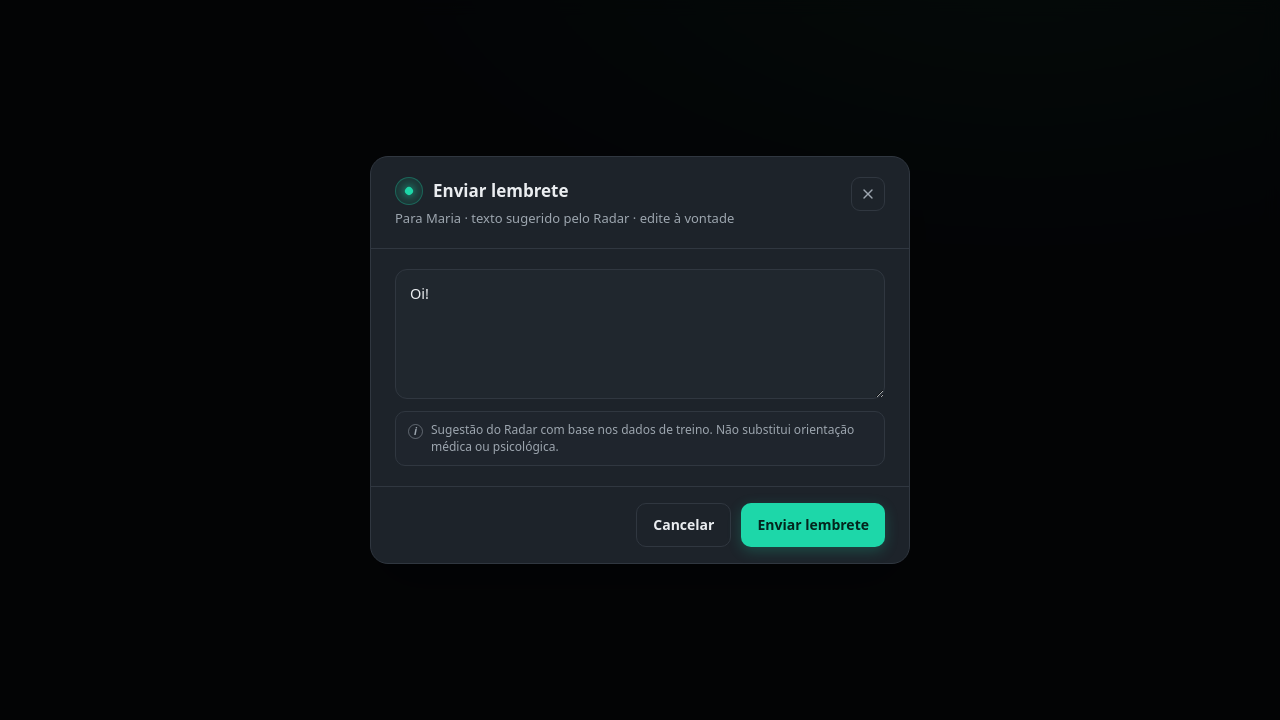
Test: ReminderModal › shows error when send fails
Click the button "Enviar lembrete".
click(813, 525)  # box [741,503,885,547]
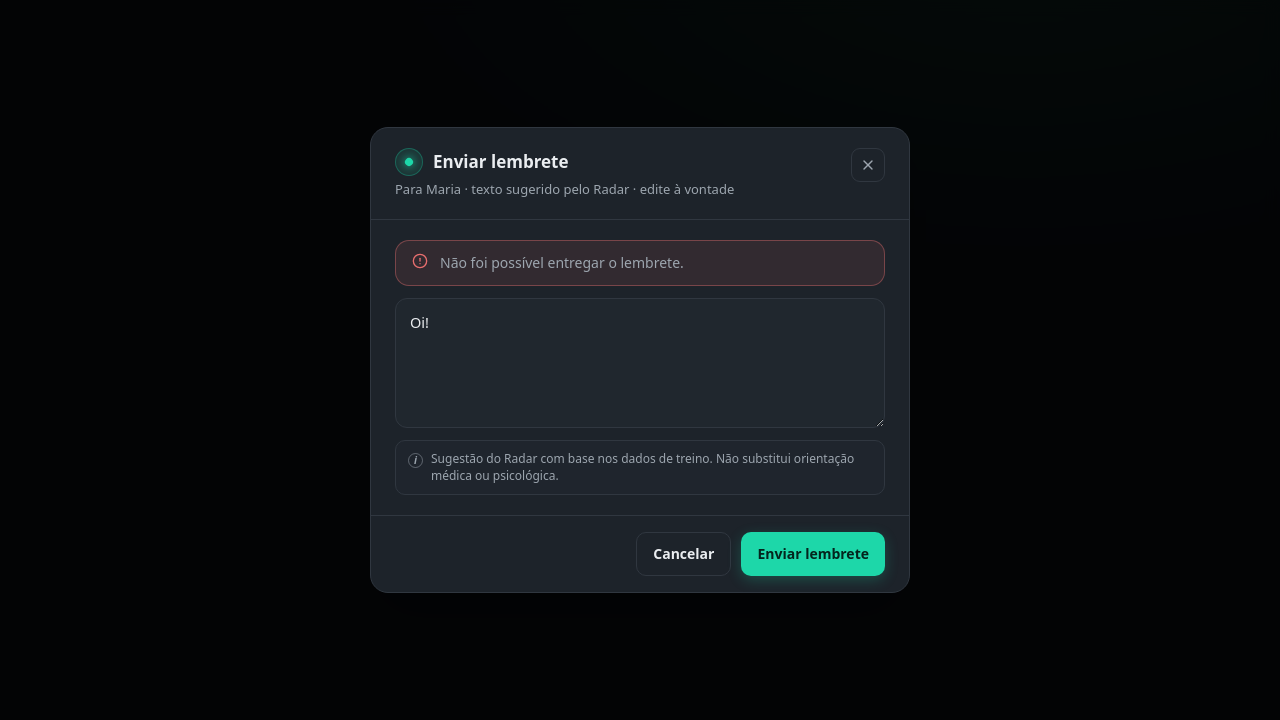
Result: the text "Não foi possível entregar o lembrete." is shown at [440,253,684,272]
